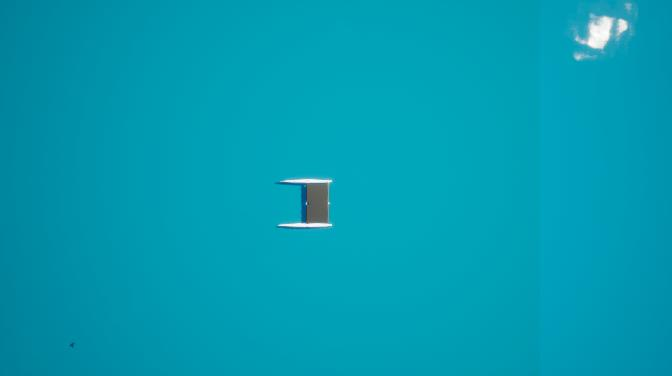boat: (273, 175, 335, 234)
drone: (68, 341, 78, 352)
land_base: (307, 184, 328, 223)
light_reflex: (554, 2, 653, 76)
